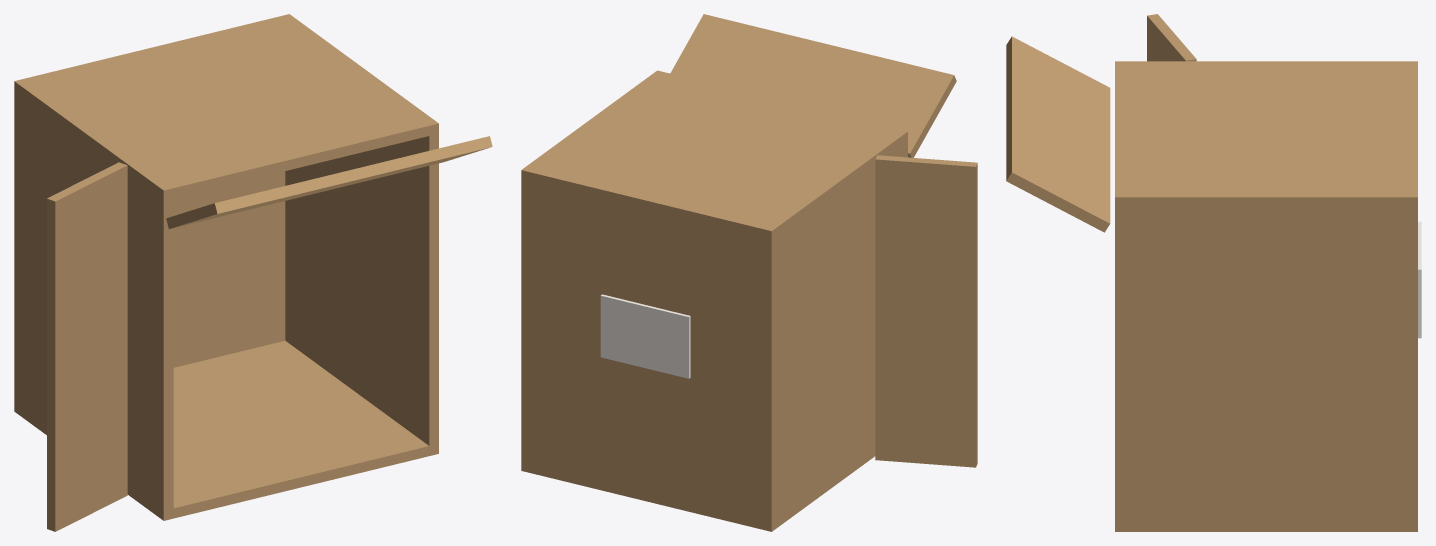
Rendered from CatCafe_Alley_StuckBox.glb.
The picture shows the model from 3 angles, left to right: view 1: azimuth 30°, elevation 25°; view 2: azimuth 150°, elevation 25°; view 3: azimuth 270°, elevation 25°; orthographic projection. The views are drawn at different scales.
Parts seen in each view (by area): view 1: CatCafe_Alley_StuckBox; view 2: CatCafe_Alley_StuckBox; view 3: CatCafe_Alley_StuckBox.
Part boxes in pixels (bbox=[...]): CatCafe_Alley_StuckBox: bbox=[14, 14, 492, 531]; CatCafe_Alley_StuckBox: bbox=[521, 14, 977, 531]; CatCafe_Alley_StuckBox: bbox=[1006, 14, 1421, 531].
Bounding box in the file's own units: 2.29 × 2.1 × 2.19.
Materials: 1 (1 with a texture image).
